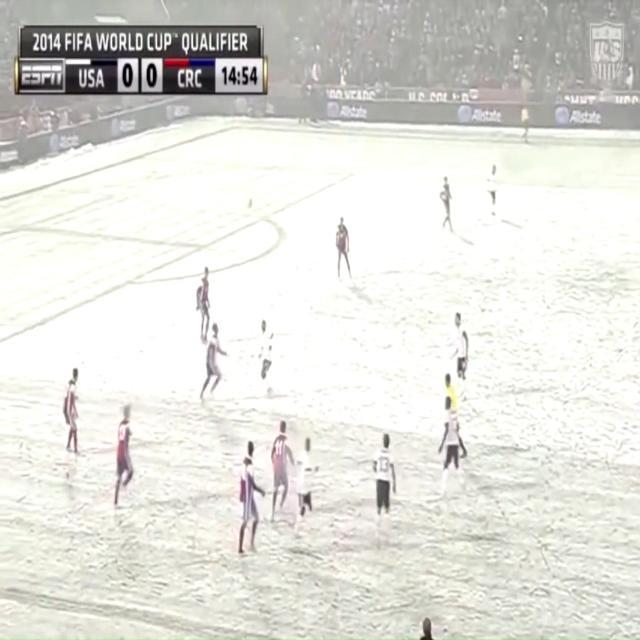ball: (245, 192, 256, 216)
player: (113, 397, 139, 529), (267, 416, 295, 534), (239, 440, 263, 572), (372, 428, 397, 547), (63, 366, 89, 471), (439, 396, 464, 499), (256, 315, 283, 410), (330, 213, 358, 287), (298, 433, 318, 536), (201, 323, 225, 405), (195, 260, 214, 354), (451, 310, 473, 388), (481, 165, 505, 221), (438, 173, 460, 234)
referee: (443, 369, 465, 432), (516, 103, 535, 152)
